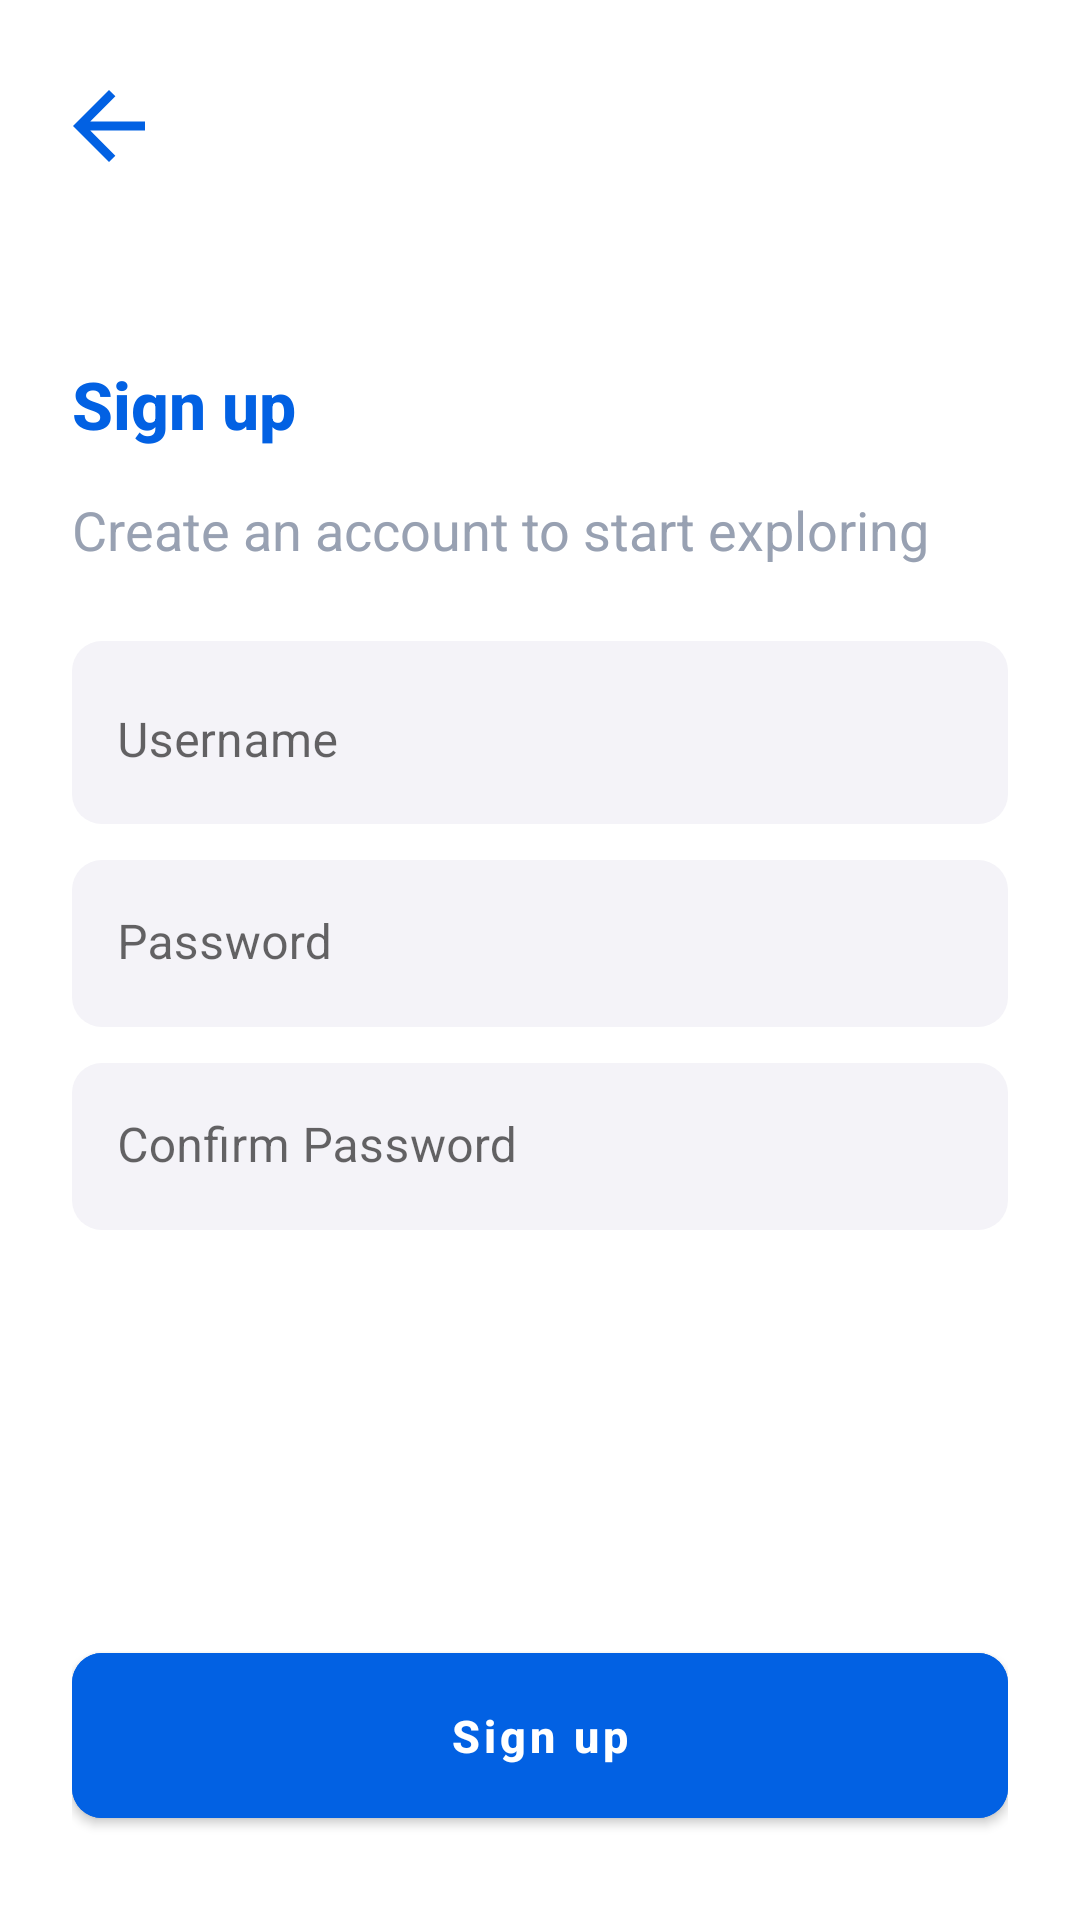

Locate icon controls on the screen. Image size 1080px×1920px, boxes as (x1, y1, x2, y2).
arrow back: (73, 90, 145, 162)
